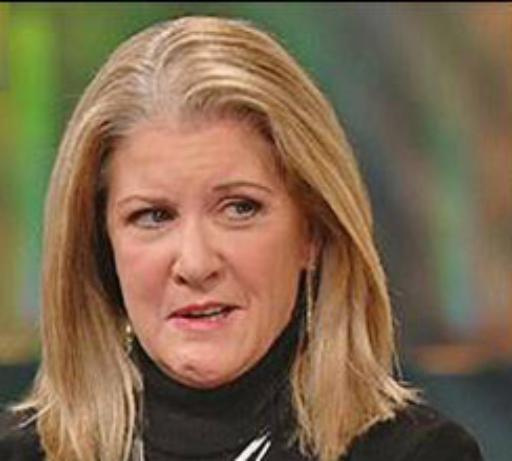left_eye: (213, 198, 263, 222)
left_lip_corner: (226, 298, 247, 319)
right_eye: (129, 206, 180, 229)
right_lip_corner: (164, 310, 178, 328)
